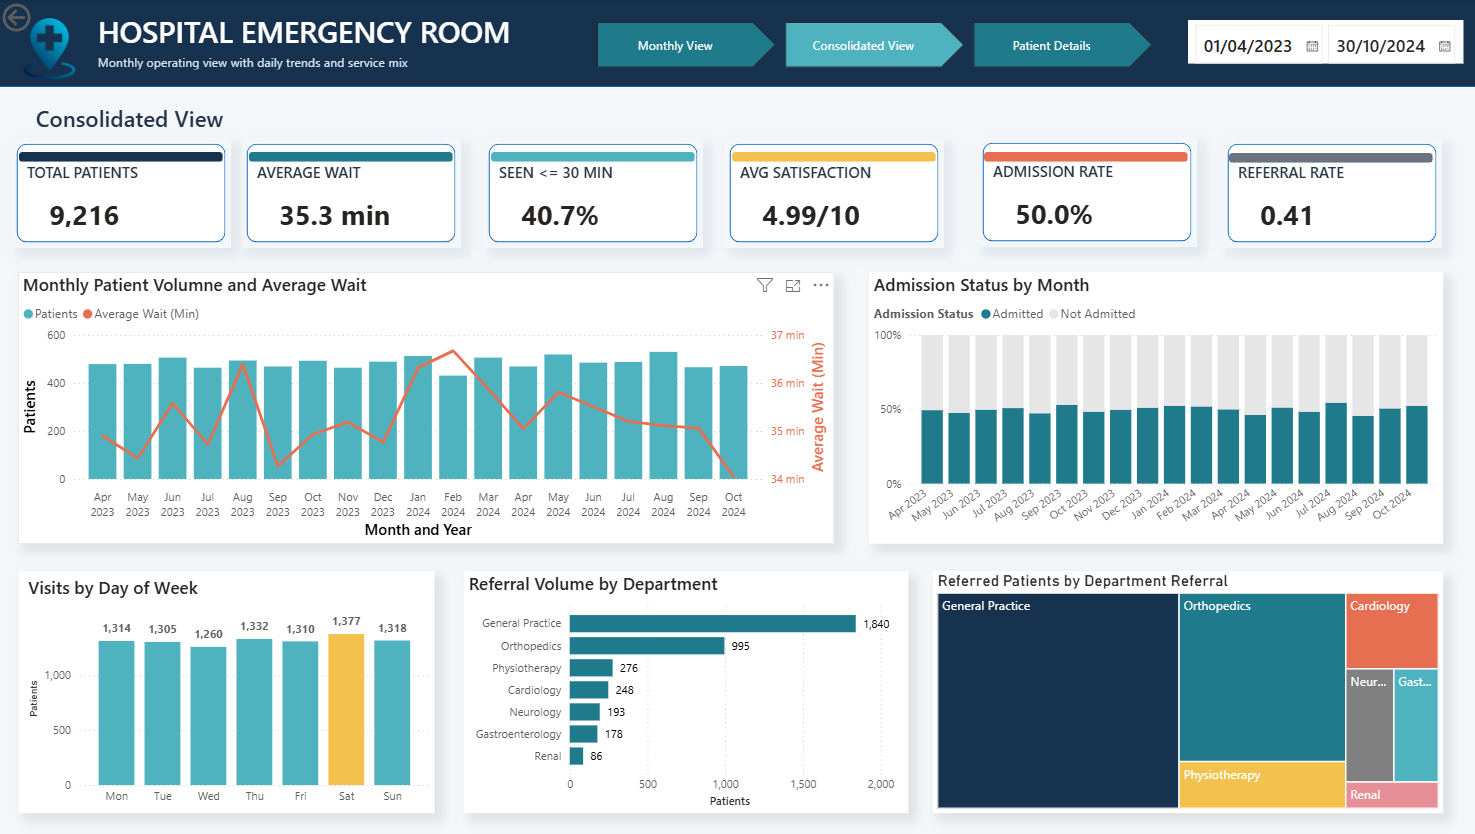

What the dashboard file says about the page in this screenshot:
{"tool":"powerbi","page":{"name":"Consolidated View","canvas":[1600,900],"ordinal":1},"visuals":[{"type":"shape","box":[0,0,1600,94.8],"z":0},{"type":"shape","box":[14.3,150.4,237.3,118.6],"z":0,"group":"g1"},{"type":"shape","box":[1055.1,149.2,237.3,118.6],"z":1000},{"type":"shape","box":[262.1,150.4,237.3,118.6],"z":1000,"group":"g2"},{"type":"cardVisual","title":"TOTAL PATIENTS","fields":{"Data":["ER Visits.Total Patients"]},"box":[31.9,176.2,153.9,82.2],"z":1000,"group":"g1"},{"type":"shape","box":[522.8,150.4,237.3,118.6],"z":2000,"group":"g3"},{"type":"shape","box":[1319.4,150.4,237.3,118.6],"z":2000},{"type":"shape","box":[782.6,150.4,237.3,118.6],"z":3000,"group":"g4"},{"type":"cardVisual","title":"ADMISSION RATE","fields":{"Data":["ER Visits.Admission Rate"]},"box":[1072.7,175,153.9,82.2],"z":3000},{"type":"shape","box":[22.5,165.7,219.7,10.6],"z":4000,"group":"g1"},{"type":"cardVisual","title":"REFERRAL RATE","fields":{"Data":["ER Visits.Referral Rate"]},"box":[1337,176.2,153.9,82.2],"z":4000},{"type":"image","box":[20.7,20.7,70.5,65.7],"z":5000},{"type":"cardVisual","title":"AVERAGE WAIT","fields":{"Data":["ER Visits.Average Wait Time (Min)"]},"box":[279.9,175.8,172.7,82.2],"z":5000,"group":"g2"},{"type":"shape","box":[1063.3,164.5,219.7,10.6],"z":6000},{"type":"cardVisual","title":"SEEN <= 30 MIN","fields":{"Data":["ER Visits.Patients Within 30 Min %"]},"box":[540.4,176.2,153.9,82.2],"z":6000,"group":"g3"},{"type":"shape","box":[1327.6,165.6,219.7,10.6],"z":7000},{"type":"cardVisual","title":"AVG SATISFACTION","fields":{"Data":["ER Visits.Average Satisfaction Score"]},"box":[800.2,176.2,178.6,82.2],"z":7000,"group":"g4"},{"type":"textbox","box":[102.1,7.3,500.9,59.6],"z":8000},{"type":"textbox","box":[102.1,53.5,500.9,26.7],"z":9000},{"type":"slicer","fields":{"Values":["Date.Date"]},"box":[1282.9,22.9,296.6,47],"z":10000},{"type":"textbox","box":[35.2,106.9,249,43.5],"z":11000},{"type":"shape","box":[270.3,165.7,219.7,10.6],"z":11000,"group":"g2"},{"type":"actionButton","box":[0,0,100,40],"z":12000},{"type":"shape","box":[531,165.7,219.7,10.6],"z":12000,"group":"g3"},{"type":"group","id":"g1","title":"Group 1","box":[14.3,150.4,237.3,118.6],"z":13000},{"type":"shape","box":[790.8,165.7,219.7,10.6],"z":13000,"group":"g4"},{"type":"group","id":"g2","title":"Group 2","box":[262.1,150.4,237.3,118.6],"z":14000},{"type":"group","id":"g3","title":"Group 3","box":[522.8,150.4,237.3,118.6],"z":15000},{"type":"group","id":"g4","title":"Group 4","box":[782.6,150.4,237.3,118.6],"z":16000},{"type":"lineClusteredColumnComboChart","title":"Monthly Patient Volumne and Average Wait","fields":{"Category":["Date.Month and Year"],"Y":["ER Visits.Total Patients"],"Y2":["ER Visits.Average Wait Time (Min)"]},"box":[21.3,294.9,879.9,292.5],"z":17000},{"type":"hundredPercentStackedColumnChart","title":"Admission Status by Month","fields":{"Category":["Date.Month and Year"],"Series":["ER Visits.Admission Status"],"Y":["ER Visits.Total Patients"]},"box":[938.6,294.9,619.1,292.5],"z":18000},{"type":"clusteredColumnChart","title":"Visits by Day of Week","fields":{"Category":["Date.Day Short"],"Y":["ER Visits.Total Patients"]},"box":[22.5,616.7,447.6,260.8],"z":19000},{"type":"clusteredBarChart","title":"Referral Volume by Department","fields":{"Category":["ER Visits.Department Referral"],"Y":["ER Visits.Referred Patients"]},"box":[503,616.7,479.3,260.8],"z":20000},{"type":"treemap","fields":{"Group":["ER Visits.Department Referral"],"Values":["ER Visits.Referred Patients"]},"box":[1007.9,616.7,549.8,260.8],"z":21000},{"type":"pageNavigator","box":[646.3,25.3,600.5,49.4],"z":22000}]}

Visuals, with their boxes in screenshot pixels (x1, y1, x2, y2), scaled from the page's 1600x900 canvas onto the 1475x834 screenshot:
shape: l=0, t=0, r=1474, b=88
shape: l=13, t=139, r=232, b=249
shape: l=973, t=138, r=1191, b=248
shape: l=242, t=139, r=460, b=249
"TOTAL PATIENTS" cardVisual: l=29, t=163, r=171, b=239
shape: l=482, t=139, r=701, b=249
shape: l=1216, t=139, r=1435, b=249
shape: l=721, t=139, r=940, b=249
"ADMISSION RATE" cardVisual: l=989, t=162, r=1131, b=238
shape: l=21, t=154, r=223, b=163
"REFERRAL RATE" cardVisual: l=1233, t=163, r=1374, b=239
image: l=19, t=19, r=84, b=80
"AVERAGE WAIT" cardVisual: l=258, t=163, r=417, b=239
shape: l=980, t=152, r=1183, b=162
"SEEN <= 30 MIN" cardVisual: l=498, t=163, r=640, b=239
shape: l=1224, t=153, r=1426, b=163
"AVG SATISFACTION" cardVisual: l=738, t=163, r=902, b=239
textbox: l=94, t=7, r=556, b=62
textbox: l=94, t=50, r=556, b=74
slicer - Date.Date: l=1183, t=21, r=1456, b=65
textbox: l=32, t=99, r=262, b=139
shape: l=249, t=154, r=452, b=163
actionButton: l=0, t=0, r=92, b=37
shape: l=490, t=154, r=692, b=163
"Group 1" group: l=13, t=139, r=232, b=249
shape: l=729, t=154, r=932, b=163
"Group 2" group: l=242, t=139, r=460, b=249
"Group 3" group: l=482, t=139, r=701, b=249
"Group 4" group: l=721, t=139, r=940, b=249
"Monthly Patient Volumne and Average Wait" lineClusteredColumnComboChart: l=20, t=273, r=831, b=544
"Admission Status by Month" hundredPercentStackedColumnChart: l=865, t=273, r=1436, b=544
"Visits by Day of Week" clusteredColumnChart: l=21, t=571, r=433, b=813
"Referral Volume by Department" clusteredBarChart: l=464, t=571, r=906, b=813
treemap - ER Visits.Department Referral x ER Visits.Referred Patients: l=929, t=571, r=1436, b=813
pageNavigator: l=596, t=23, r=1149, b=69
